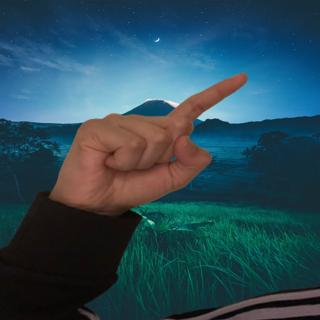WHY: (48, 63, 252, 212)
